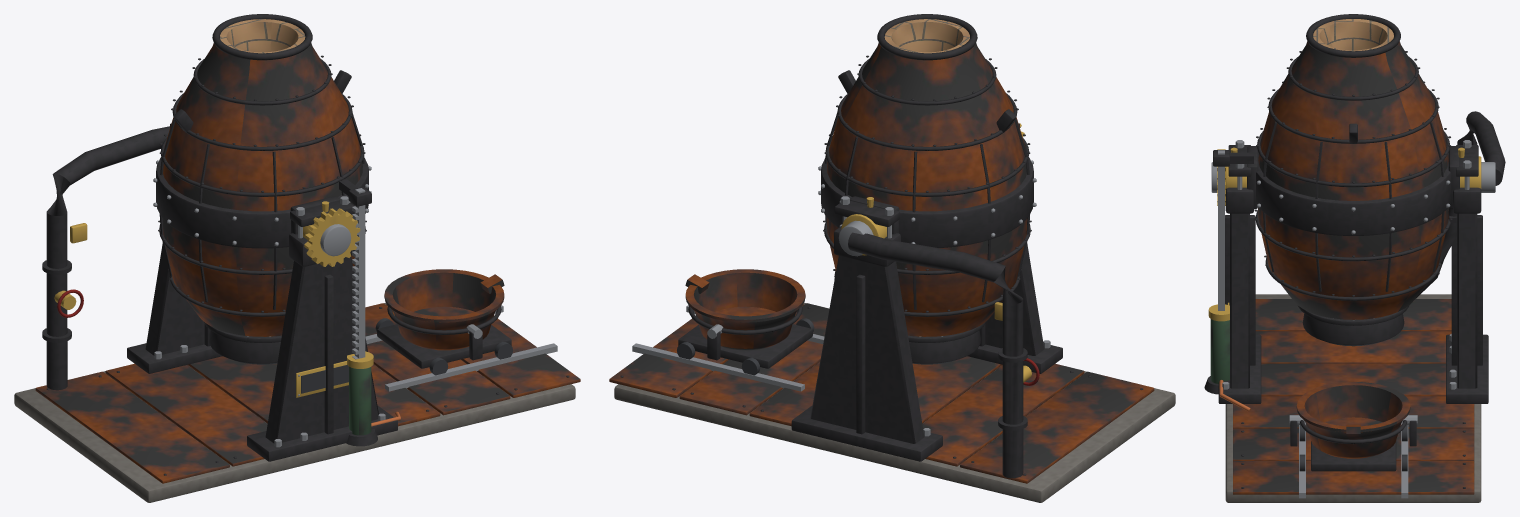
The model's file is bessemer.glb.
The picture shows the model from 3 angles, left to right: view 1: azimuth 30°, elevation 25°; view 2: azimuth 150°, elevation 25°; view 3: azimuth 270°, elevation 25°; orthographic projection. The views are drawn at different scales.
Parts seen in each view (by area): view 1: bessemer_static, converter_static, ladleCar_static, tiltRack_static, gear, plaque_static; view 2: bessemer_static, converter_static, ladleCar_static; view 3: converter_static, bessemer_static, ladleCar_static, tiltRack_static.
Boxes of the visible parts, bbox=[...] form: bessemer_static: bbox=[14, 123, 580, 502]; converter_static: bbox=[153, 14, 371, 364]; ladleCar_static: bbox=[375, 269, 512, 375]; tiltRack_static: bbox=[346, 187, 400, 446]; gear: bbox=[304, 208, 360, 266]; plaque_static: bbox=[296, 361, 348, 397]; bessemer_static: bbox=[609, 123, 1175, 502]; converter_static: bbox=[818, 14, 1036, 364]; ladleCar_static: bbox=[677, 269, 814, 375]; converter_static: bbox=[1211, 14, 1495, 346]; bessemer_static: bbox=[1218, 111, 1505, 502]; ladleCar_static: bbox=[1289, 382, 1417, 471]; tiltRack_static: bbox=[1204, 150, 1250, 411].
Size of the model in its own units: 3.45 by 2.77 by 2.12.
Materials: 10 (8 with a texture image).
